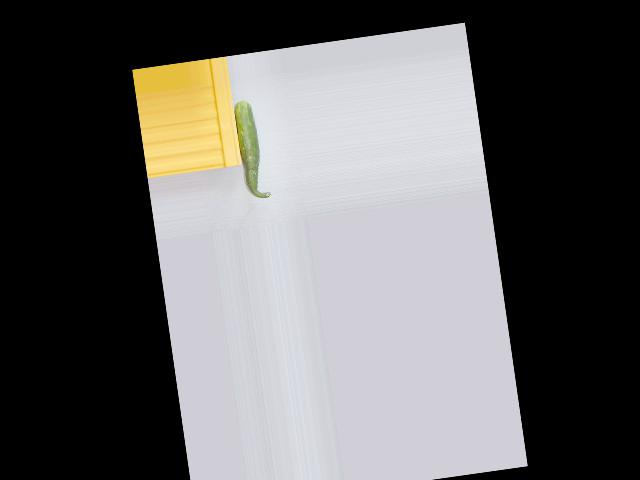cucumber: (232, 99, 271, 201)
